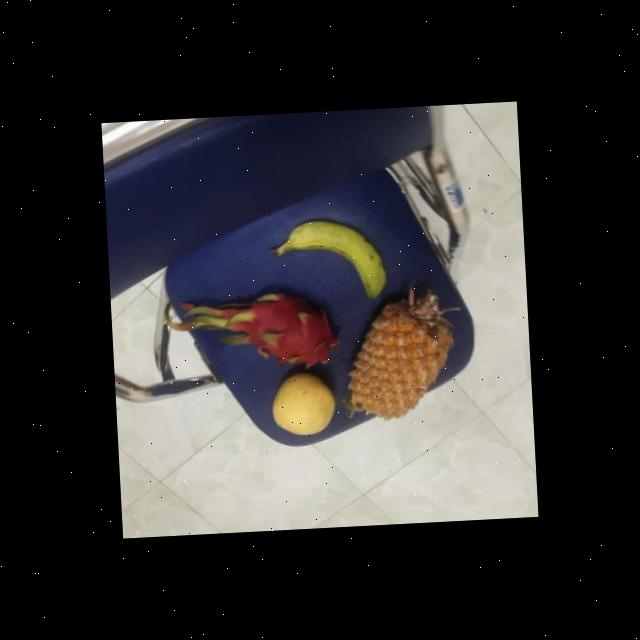banana: (270, 216, 386, 305)
pear: (268, 369, 337, 437)
pineapple: (335, 282, 457, 424)
pitaya: (232, 289, 336, 372)
